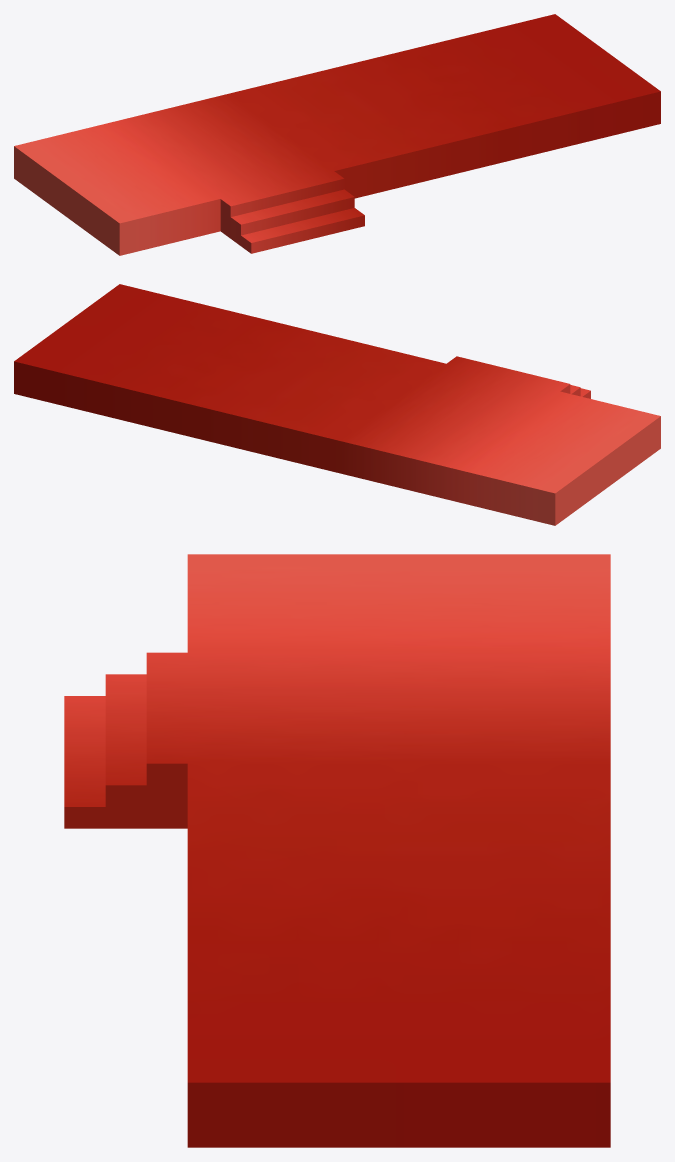
The model's file is Stage.fbx.
3 renders of one model, top to bottom at view 1: azimuth 30°, elevation 25°; view 2: azimuth 150°, elevation 25°; view 3: azimuth 270°, elevation 25°, orthographic. The views are drawn at different scales.
Visible parts, largest first — view 1: Plane; view 2: Plane; view 3: Plane.
Boxes of the visible parts, x1,y1,x2,y2 form: Plane: (14, 14, 660, 255); Plane: (14, 284, 660, 525); Plane: (64, 554, 610, 1147).
Bounding box in the file's own units: 591 × 33.89 × 258.
Materials: 1 (1 with a texture image).
